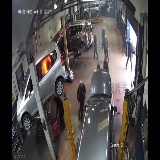fire: (39, 54, 53, 77)
